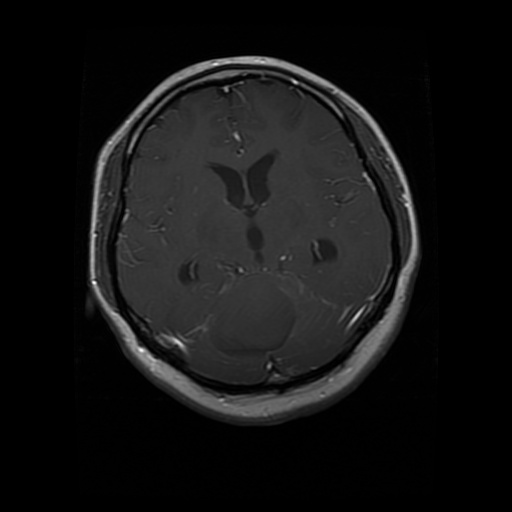glioma: (204, 273, 290, 349)
